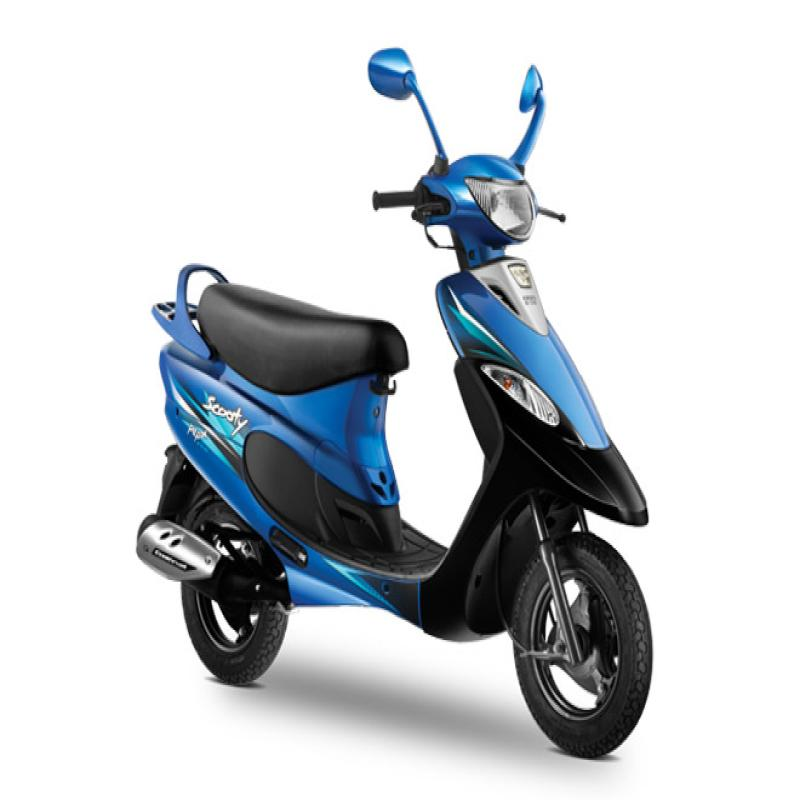bike: (102, 21, 660, 752)
